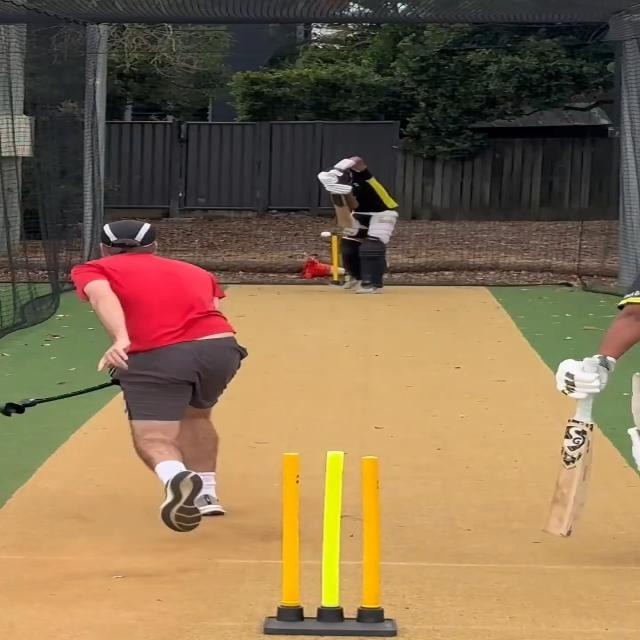ball: (318, 231, 333, 240)
stump: (260, 449, 395, 637)
